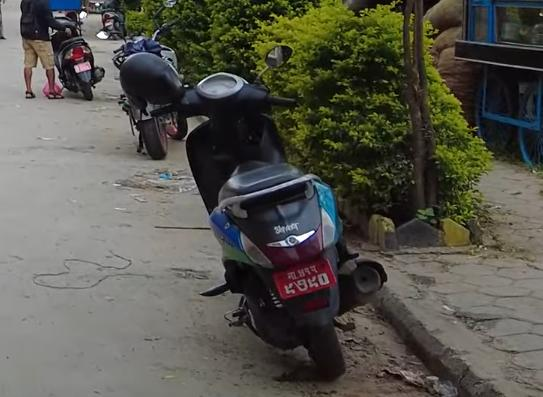scooter: (139, 45, 385, 397)
